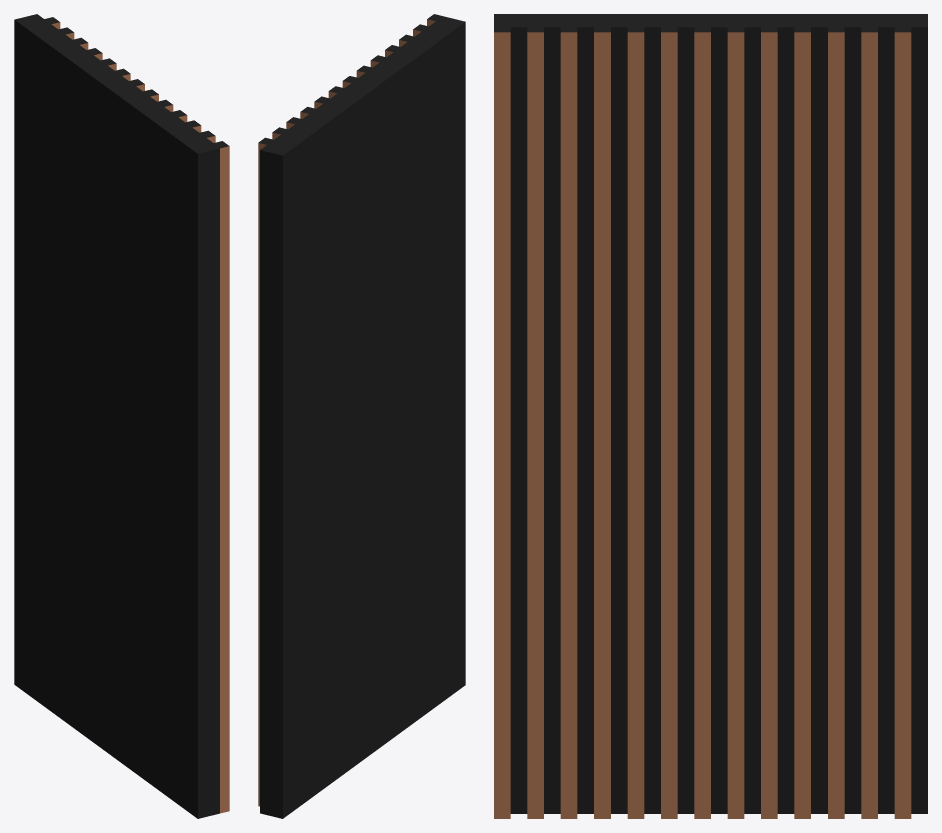
The model's file is SM_Build_Pallisade_1.fbx.
3 renders of one model, left to right at view 1: azimuth 30°, elevation 25°; view 2: azimuth 150°, elevation 25°; view 3: azimuth 270°, elevation 25°, orthographic. The views are drawn at different scales.
Visible parts, largest first — view 1: Pallisade 1; view 2: Pallisade 1; view 3: Pallisade 1.
Part boxes in pixels (left/top/right/bottom): Pallisade 1: left=14, top=14, right=229, bottom=818; Pallisade 1: left=258, top=14, right=465, bottom=818; Pallisade 1: left=494, top=14, right=927, bottom=818.
Size of the model in its own units: 0.2 by 4 by 2.
